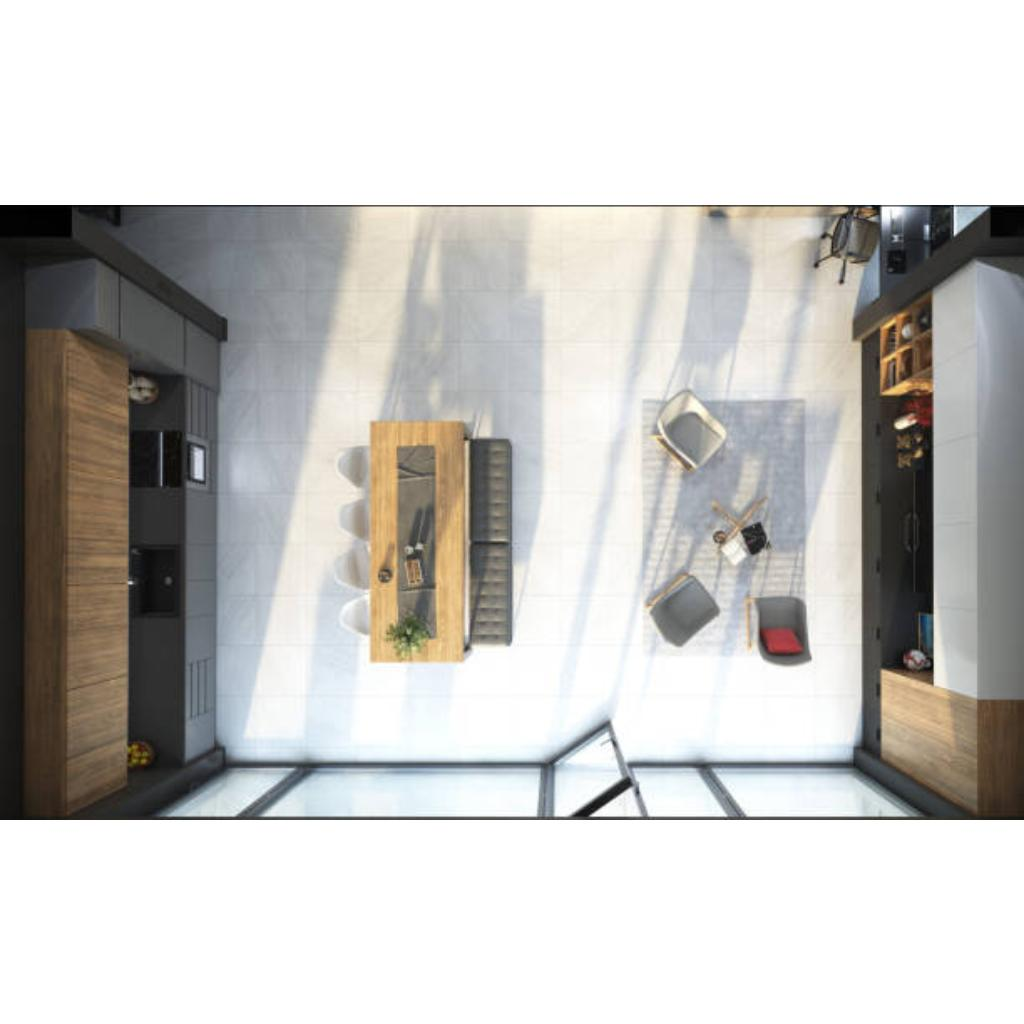TV stand: (863, 296, 981, 818)
bench: (468, 546, 514, 646), (470, 438, 514, 540)
chair: (651, 384, 729, 470), (744, 594, 818, 670), (648, 574, 720, 652), (832, 215, 874, 263), (338, 441, 370, 491), (337, 494, 371, 540), (337, 545, 369, 591), (338, 594, 368, 638)
coffee table: (707, 486, 779, 564)
desk: (880, 205, 930, 287)
dining table: (370, 422, 464, 666)
modular kitchen: (22, 259, 214, 817)
window: (252, 808, 542, 818), (748, 806, 860, 816), (648, 806, 744, 816)
